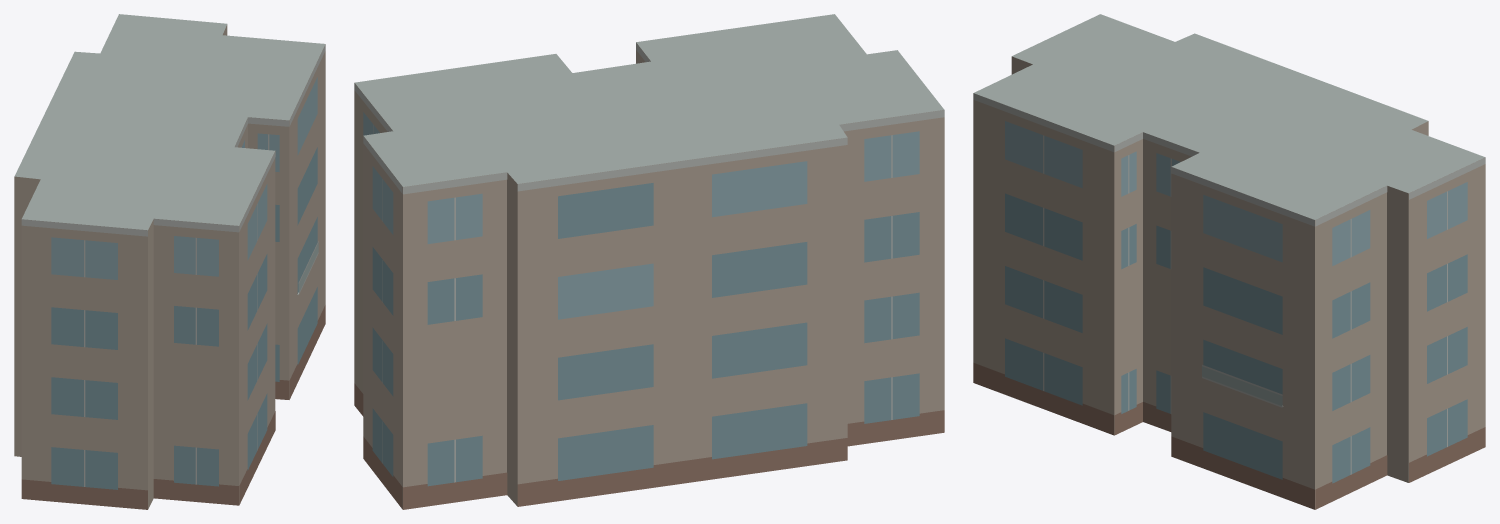
The model's file is survey-upis-33046188.glb.
3 renders of one model, left to right at view 1: azimuth 30°, elevation 25°; view 2: azimuth 150°, elevation 25°; view 3: azimuth 270°, elevation 25°, orthographic. The views are drawn at different scales.
Parts seen in each view (by area): view 1: survey-upis-33046188.tmp; view 2: survey-upis-33046188.tmp; view 3: survey-upis-33046188.tmp.
Part boxes in pixels (x1,y1,x2,y2): survey-upis-33046188.tmp: (14,14,325,509); survey-upis-33046188.tmp: (354,14,944,509); survey-upis-33046188.tmp: (973,14,1485,509).
Size of the model in its own units: 16.18 by 10.6 by 16.99.
